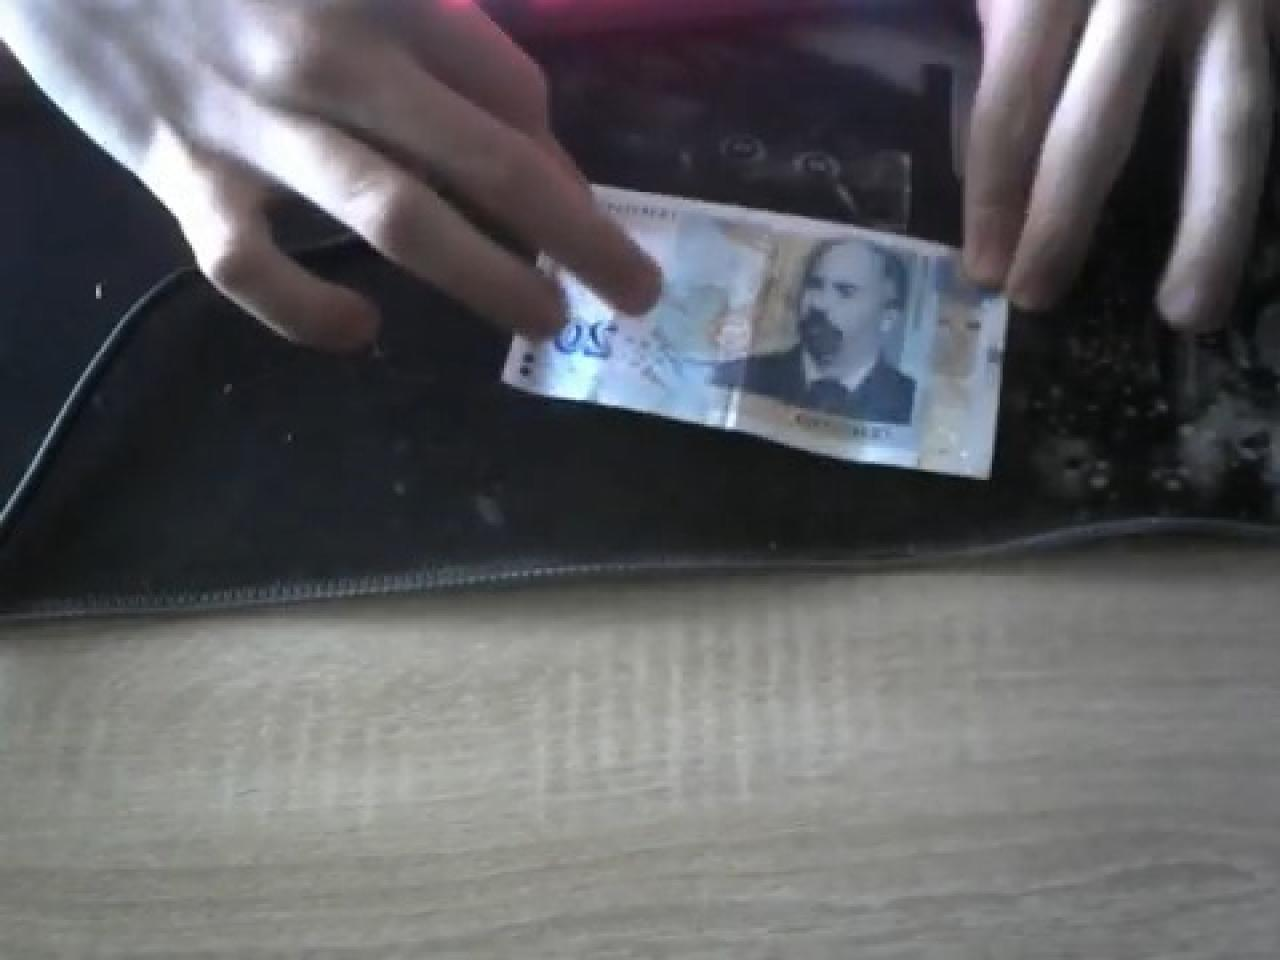20leva: (499, 187, 1011, 483)
